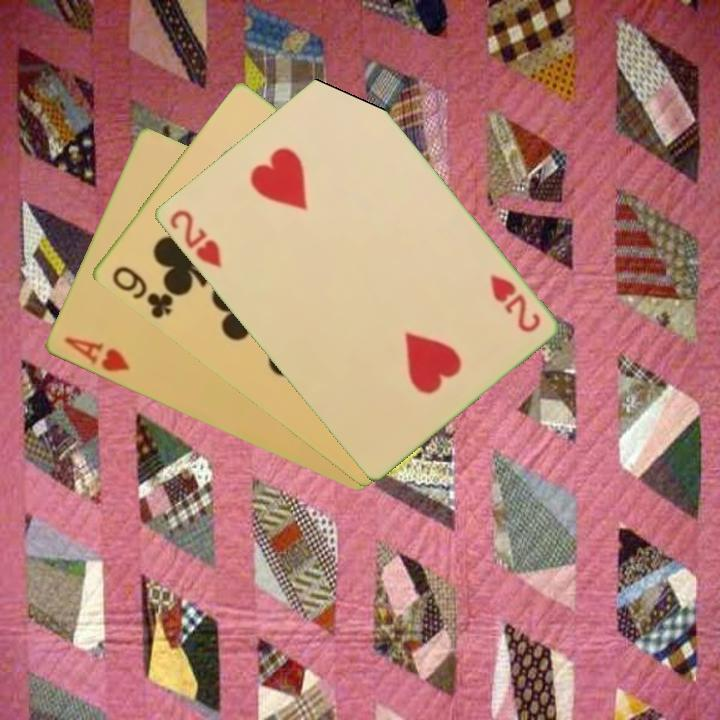2h: (165, 205, 224, 271), (486, 270, 543, 336)
9c: (108, 262, 176, 322)
Ah: (60, 333, 132, 375)
